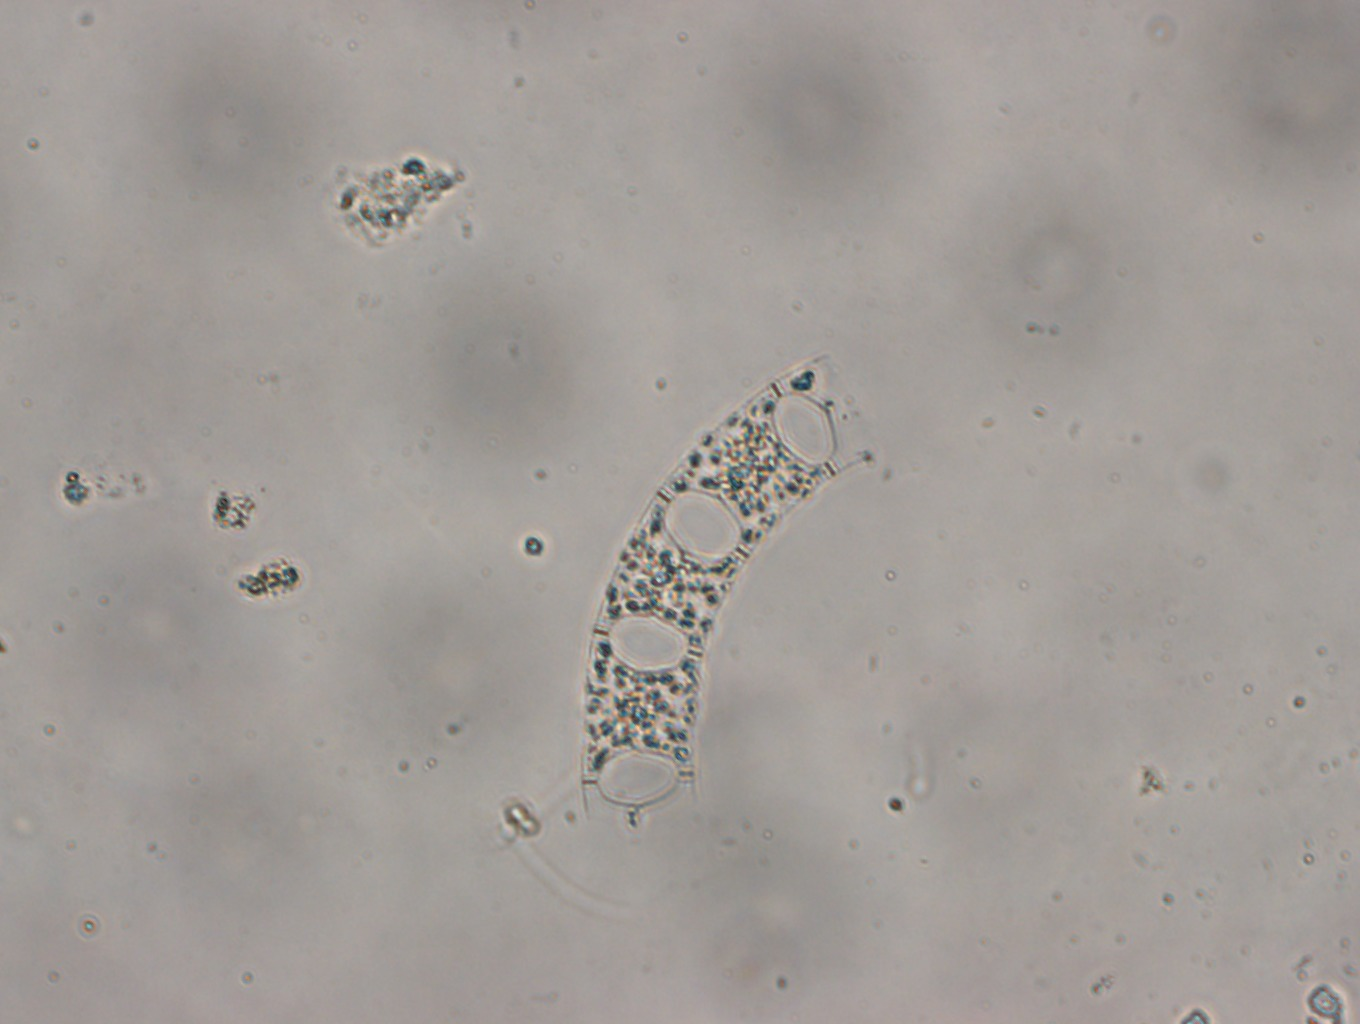eucampia: (579, 355, 873, 826)
